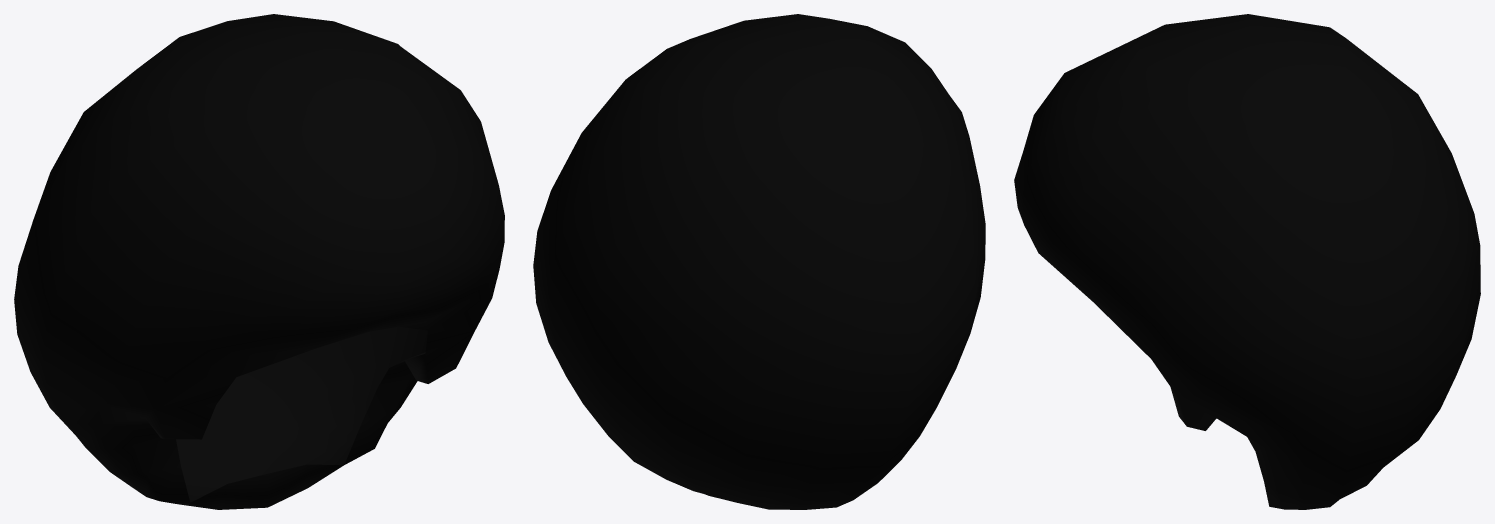
Rendered from NPC_BlackHair1.gltf.
The picture shows the model from 3 angles, left to right: view 1: azimuth 30°, elevation 25°; view 2: azimuth 150°, elevation 25°; view 3: azimuth 270°, elevation 25°; orthographic projection. The views are drawn at different scales.
Parts seen in each view (by area): view 1: NPC_BlackHair.001; view 2: NPC_BlackHair.001; view 3: NPC_BlackHair.001.
Part boxes in pixels (x1,y1,x2,y2): NPC_BlackHair.001: (14, 14, 504, 509); NPC_BlackHair.001: (533, 14, 985, 509); NPC_BlackHair.001: (1014, 14, 1480, 509).
Bounding box in the file's own units: 0.7566 × 0.7696 × 0.7317.
1 material, 1 textured.
